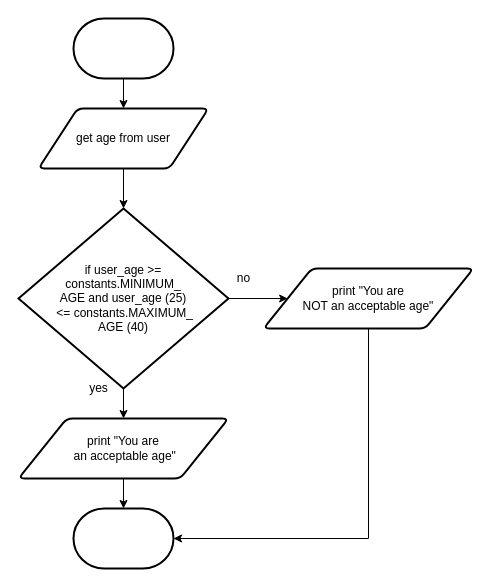
This 491x586 diagram has some shape labels left out. Here are the shapes that lost their labels. From the top down, the centre of each, then its label:
(x=123, y=48): start
(x=123, y=538): stop
